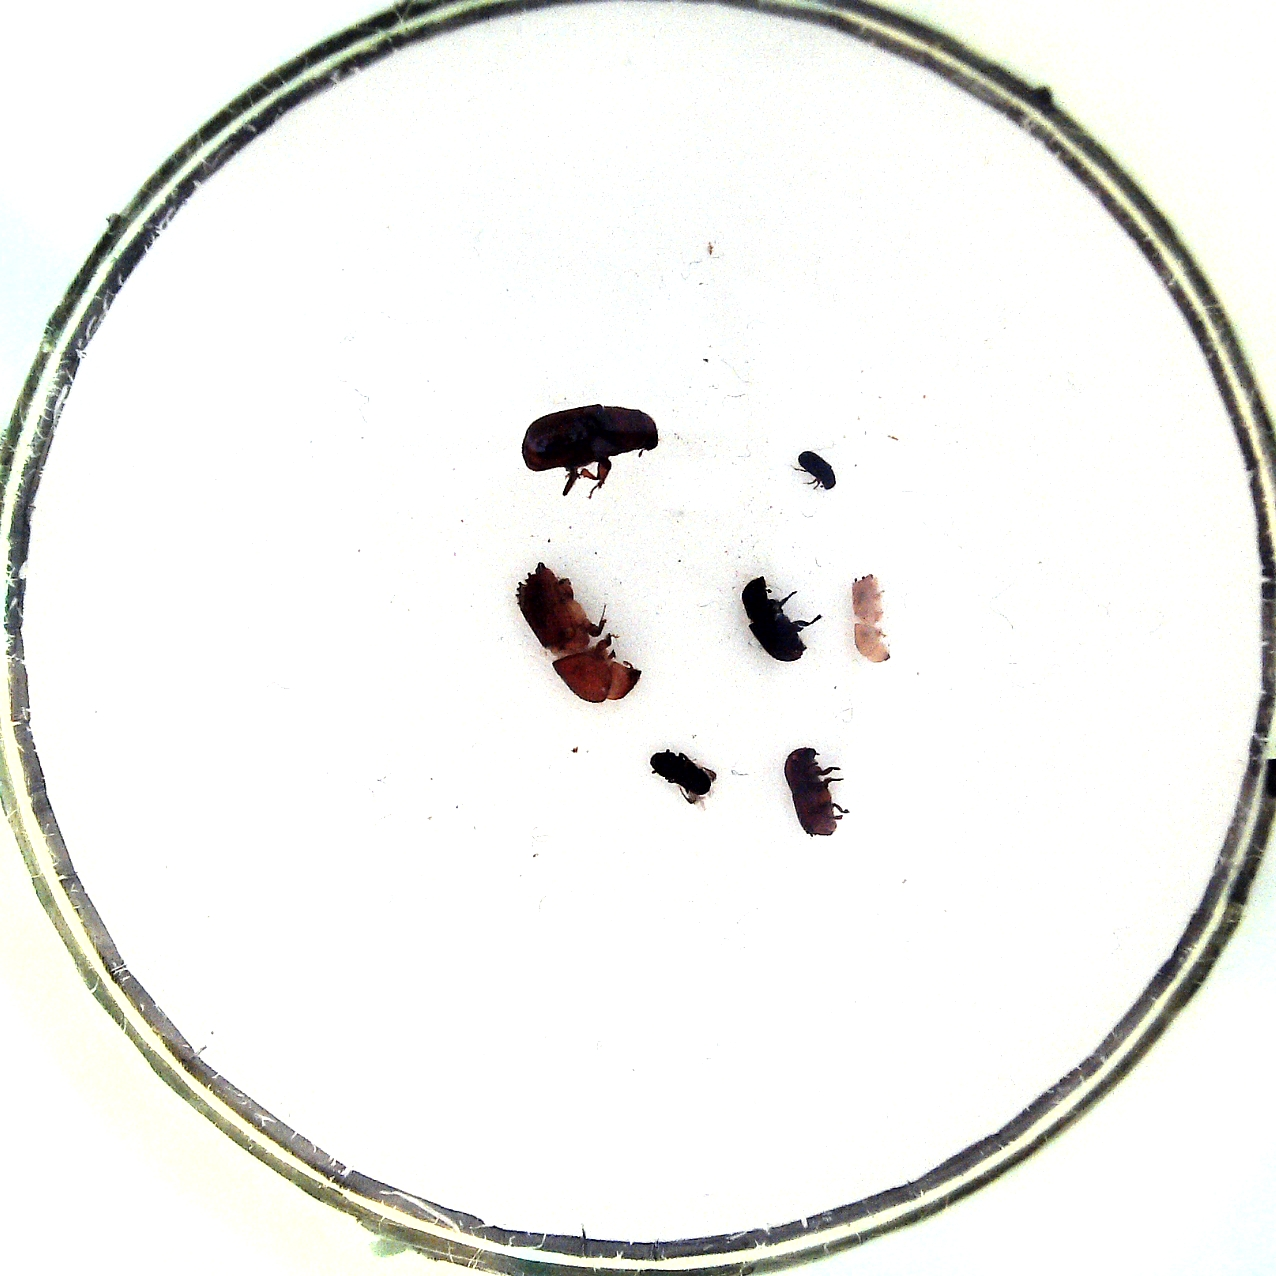Boerner: (508, 556, 645, 712)
Leconte: (515, 400, 666, 504)
Linnaeus: (782, 743, 858, 841)
acuminatus: (846, 566, 899, 674)
armandi: (738, 571, 825, 668)
coleoptera: (643, 746, 722, 807), (786, 443, 846, 494)
